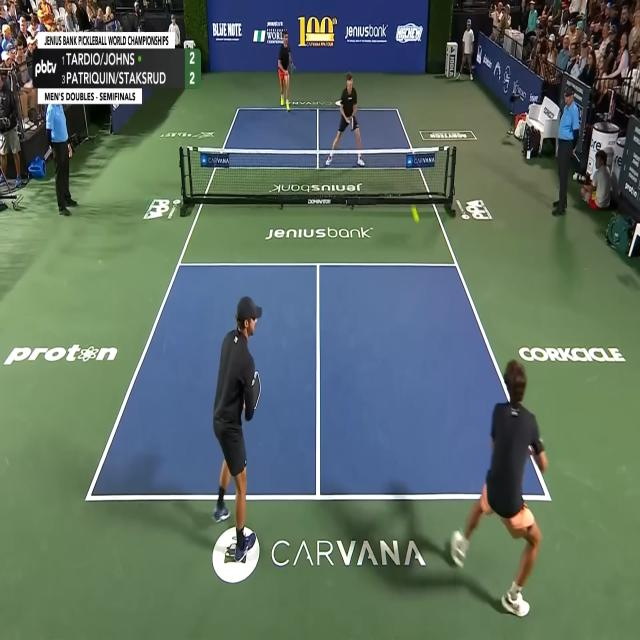ball: (410, 208, 420, 224)
